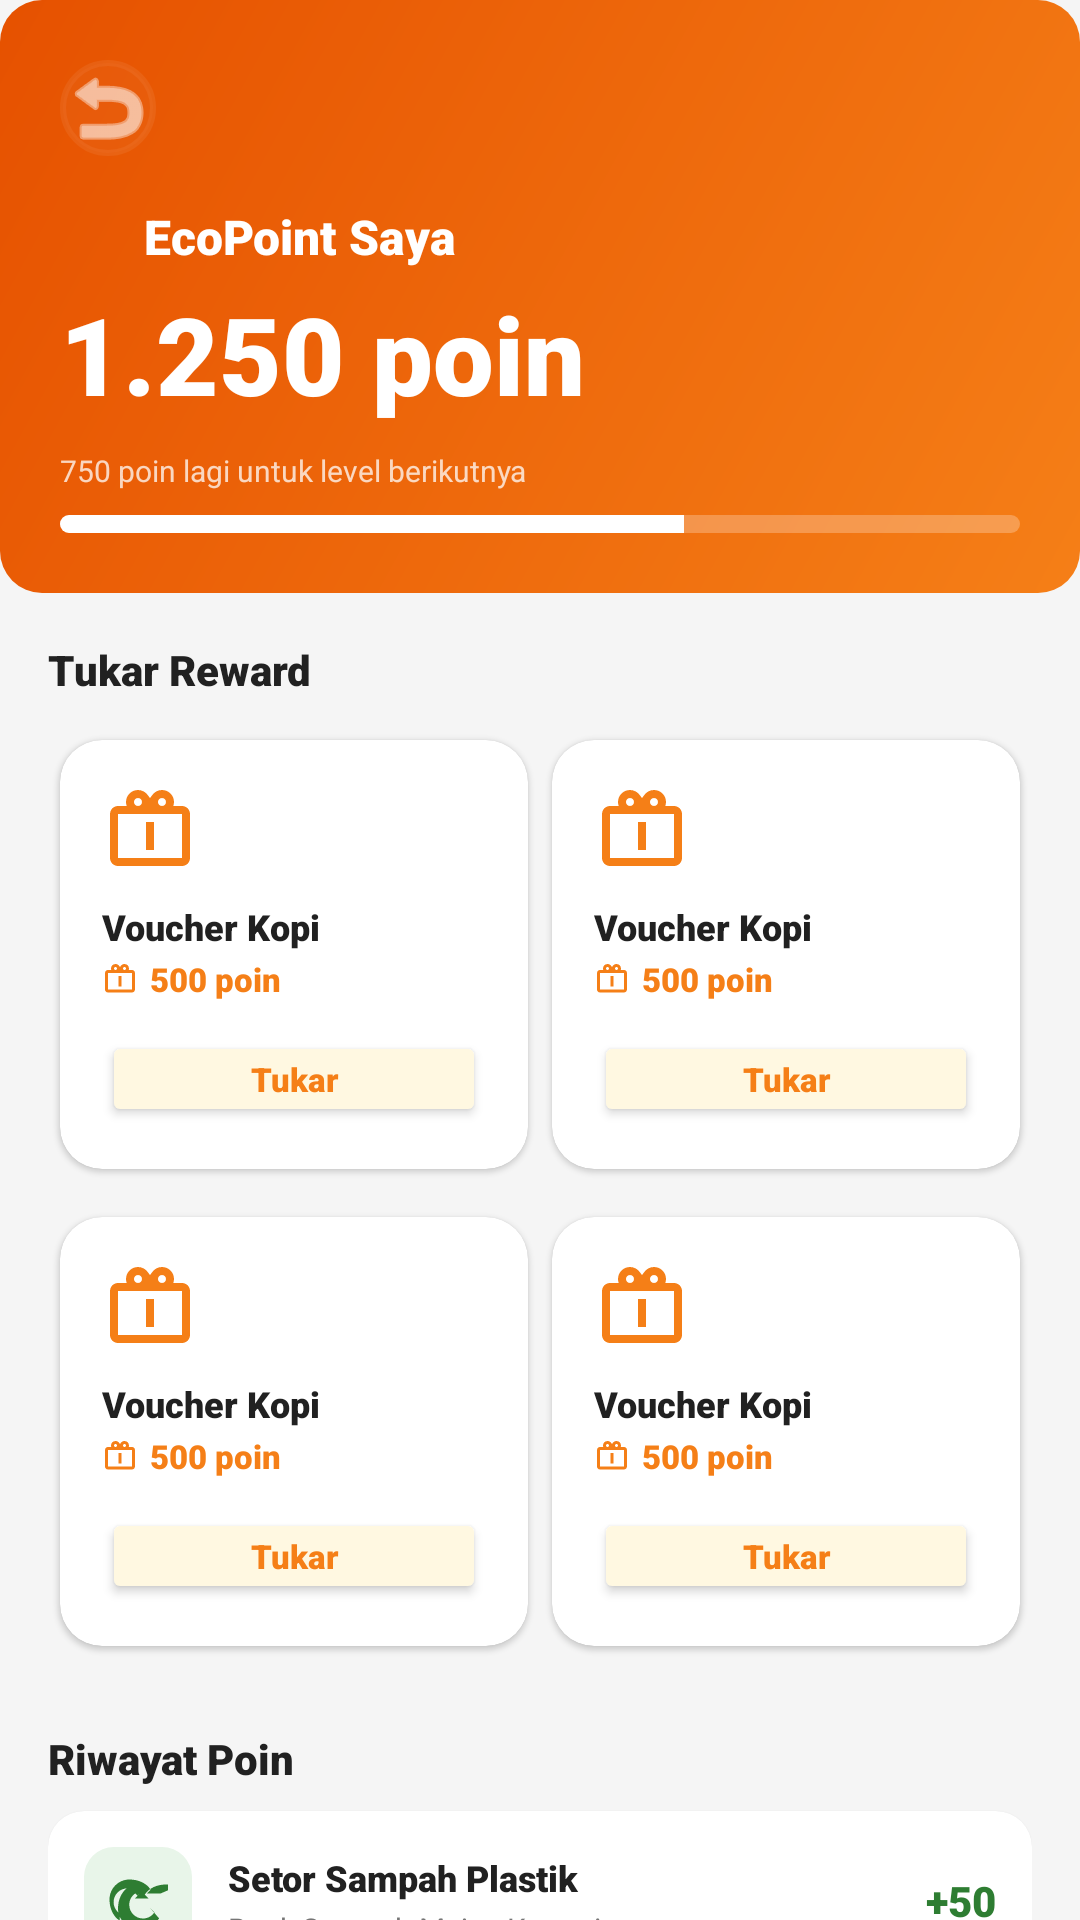

Icons on this 1080×1920 Android screen, each with the point to tap as (x,y):
gift: (150,828), (642,828), (120,978), (612,978), (150,1305), (642,1305), (120,1455), (612,1455)
revert: (109,108)
